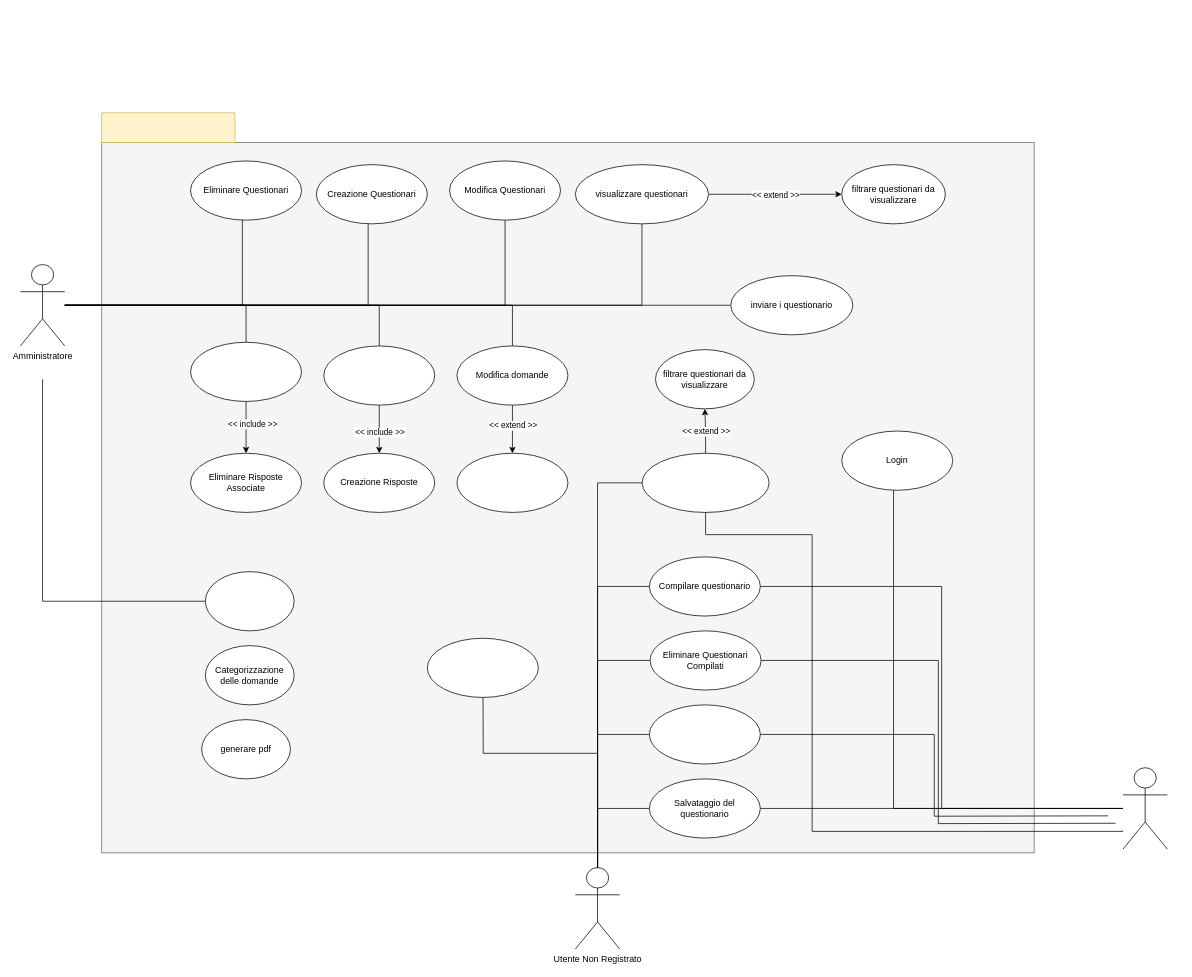
Image size: 1192x977. Some labels were removed from this diagram. The shapes that lost their labels are listed below. From the top down, each one's box as (x1, y1, x2, y2) in pixels, then its label:
(101, 112, 235, 142): Questionari App
(190, 342, 302, 401): Eliminare Domande
(323, 345, 435, 405): Creazione Domande
(456, 453, 568, 512): Modifica Risposte
(641, 453, 769, 512): visualizzare questionari Compilati
(205, 571, 294, 631): notifica via mail x completamento
(427, 638, 538, 697): generazione codice
(649, 704, 760, 764): Modifica Questionari Compilati
(1122, 767, 1167, 849): Utente Registrato
